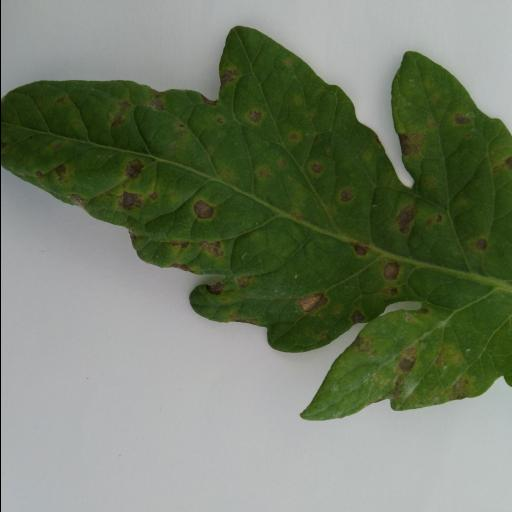disease_tomato: (0, 26, 512, 422)
